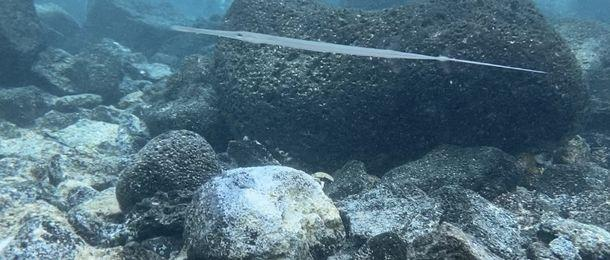Fistularia commersonii: (138, 7, 574, 108)
